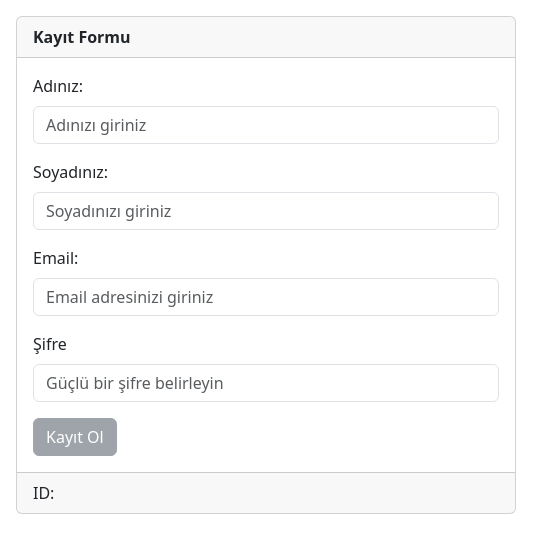
it: Register Page › Error Messages › Email input throws error for 2 chars
Type "em" into the field with test id "email-input" at coordinates (266, 297), box [33, 278, 499, 316]
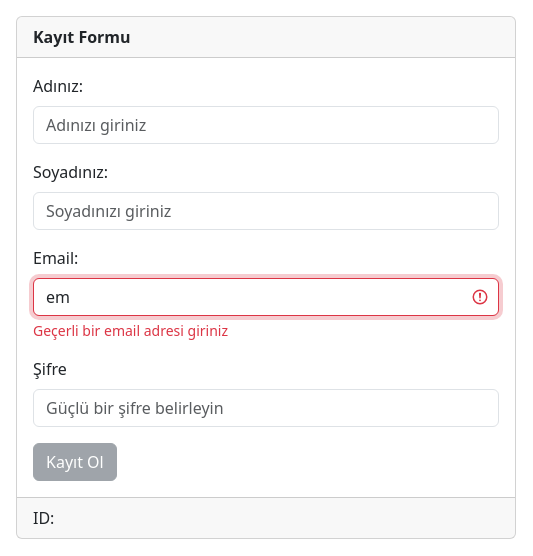
Result: the text "Geçerli bir email adresi giriniz" is shown at [33, 321, 228, 340]
